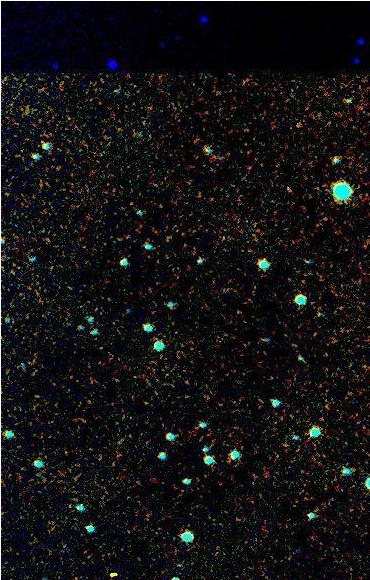star: (95, 559, 125, 580)
